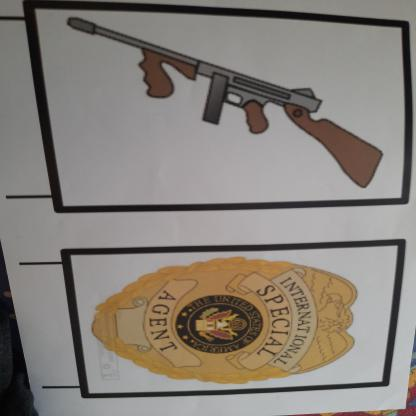Bootlegger: (46, 10, 399, 198)
G-man: (81, 253, 382, 381)
